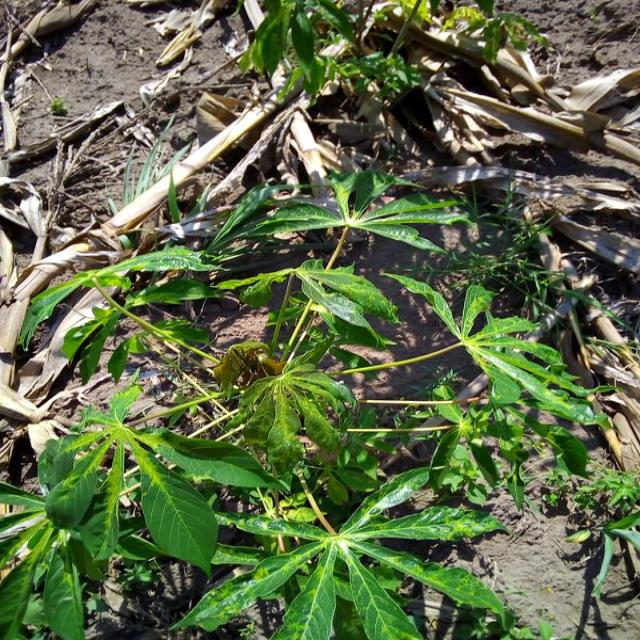cassava leaf: (168, 465, 511, 638), (126, 430, 220, 579)
